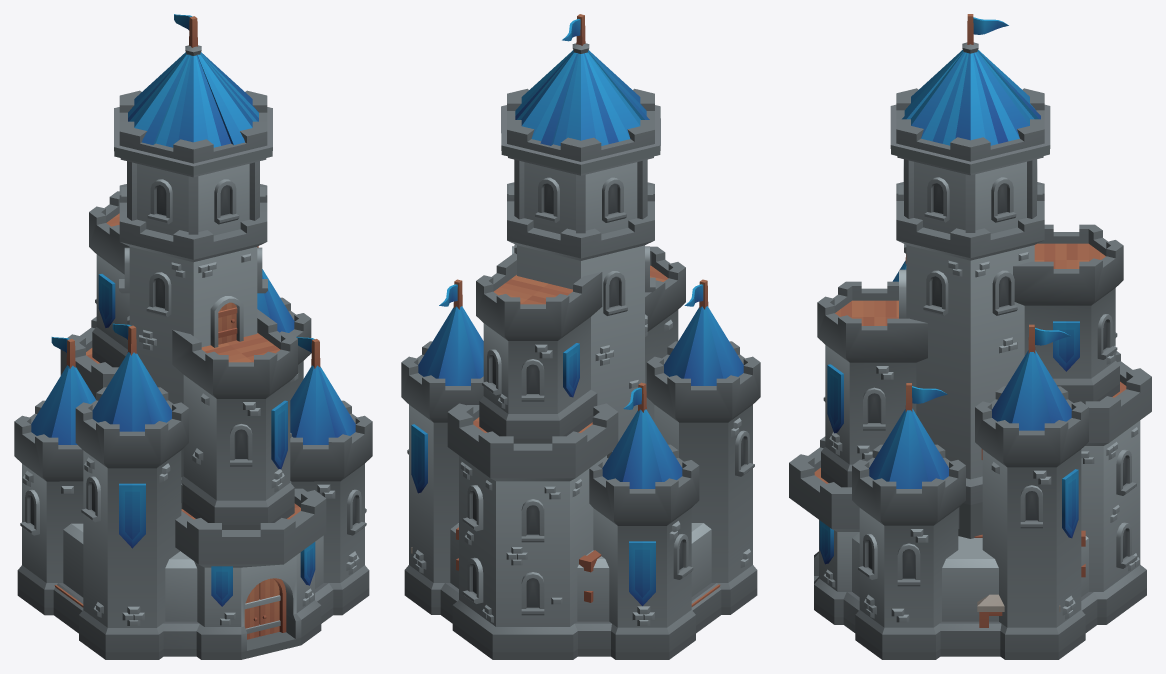
File: buildings-Da2kD5tY.glb
3 views of the same model, side by side, from view 1: azimuth 30°, elevation 25°; view 2: azimuth 150°, elevation 25°; view 3: azimuth 270°, elevation 25° (orthographic).
Parts seen in each view (by area): view 1: building_castle_blue; view 2: building_castle_blue, building_market_red; view 3: building_castle_blue, building_market_red.
Part boxes in pixels (left/top/right/bottom): building_castle_blue: left=14, top=14, right=372, bottom=659; building_castle_blue: left=401, top=14, right=760, bottom=659; building_market_red: left=411, top=527, right=720, bottom=606; building_castle_blue: left=789, top=14, right=1151, bottom=659; building_market_red: left=974, top=530, right=1085, bottom=627.
Bounding box in the file's own units: 1.98 × 3.98 × 2.26.
Materials: 1 (1 with a texture image).
